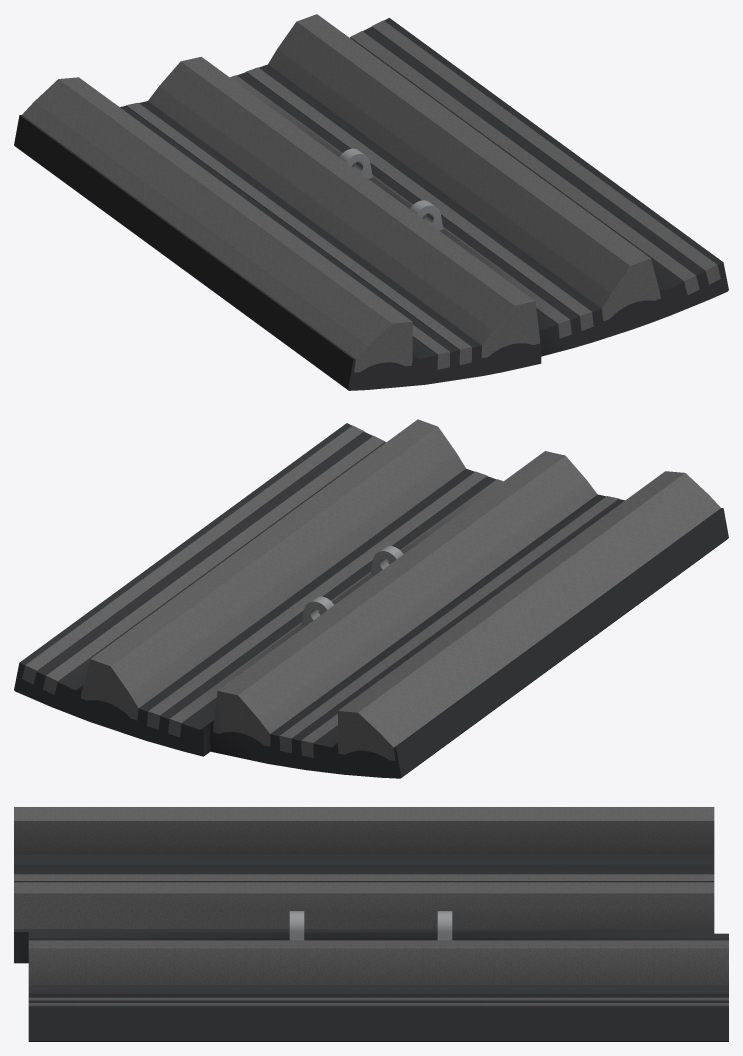
File: ball-shell-liner-integrated.glb
The picture shows the model from 3 angles, top to bottom: view 1: azimuth 30°, elevation 25°; view 2: azimuth 150°, elevation 25°; view 3: azimuth 270°, elevation 25°; orthographic projection. The views are drawn at different scales.
Visible parts, largest first — view 1: compositeInsert, composite, bolt; view 2: compositeInsert, composite, bolt; view 3: compositeInsert, composite, bolt.
Part boxes in pixels (<box>): compositeInsert: <box>22,14,720,372</box>; composite: <box>14,18,728,390</box>; bolt: <box>339,148,443,230</box>; compositeInsert: <box>22,419,720,760</box>; composite: <box>14,423,728,778</box>; bolt: <box>301,546,403,626</box>; compositeInsert: <box>14,807,728,1006</box>; composite: <box>14,854,728,1041</box>; bolt: <box>289,911,452,940</box>.
Bounding box in the file's own units: 1.59 × 0.2989 × 2.42.
3 materials, 1 textured.
